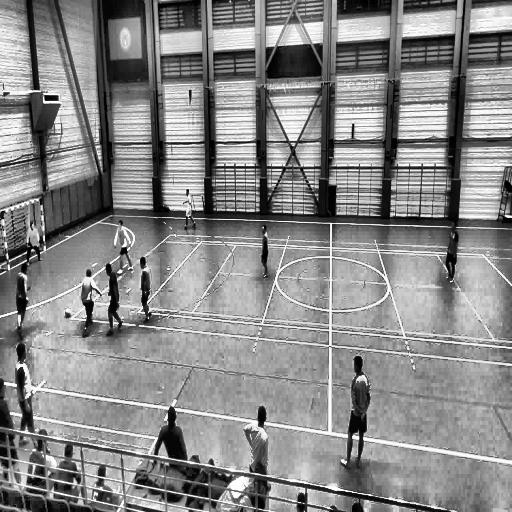ball: (64, 307, 70, 318)
player: (341, 359, 369, 471), (244, 407, 269, 512), (16, 346, 36, 439), (80, 268, 102, 337), (104, 261, 123, 337), (114, 220, 134, 274), (16, 261, 29, 339), (445, 220, 458, 286), (140, 257, 151, 327), (26, 222, 42, 265), (183, 188, 197, 229), (259, 224, 267, 279)
